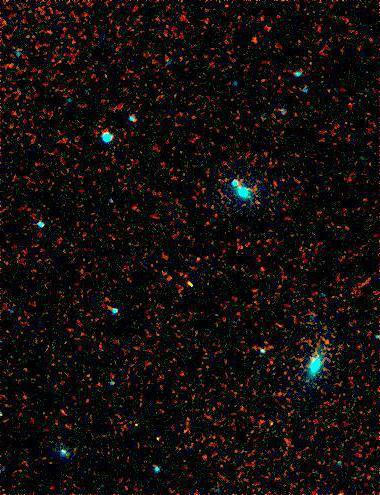star: (240, 25, 270, 55)
